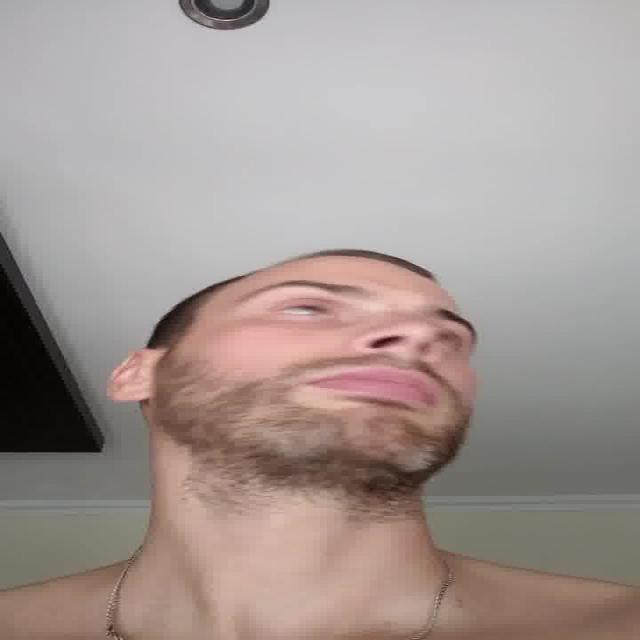earlobe: (105, 350, 152, 402)
